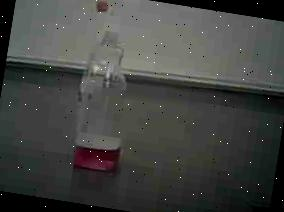hazard: (64, 0, 149, 181)
